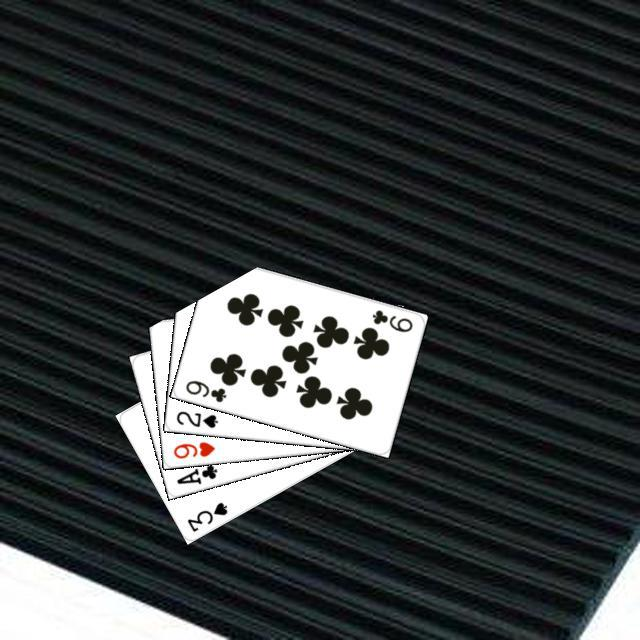2s: (171, 406, 219, 430)
3s: (182, 497, 229, 533)
9c: (181, 375, 228, 404), (367, 305, 414, 334)
9h: (168, 437, 217, 460)
Ac: (171, 459, 219, 486)
